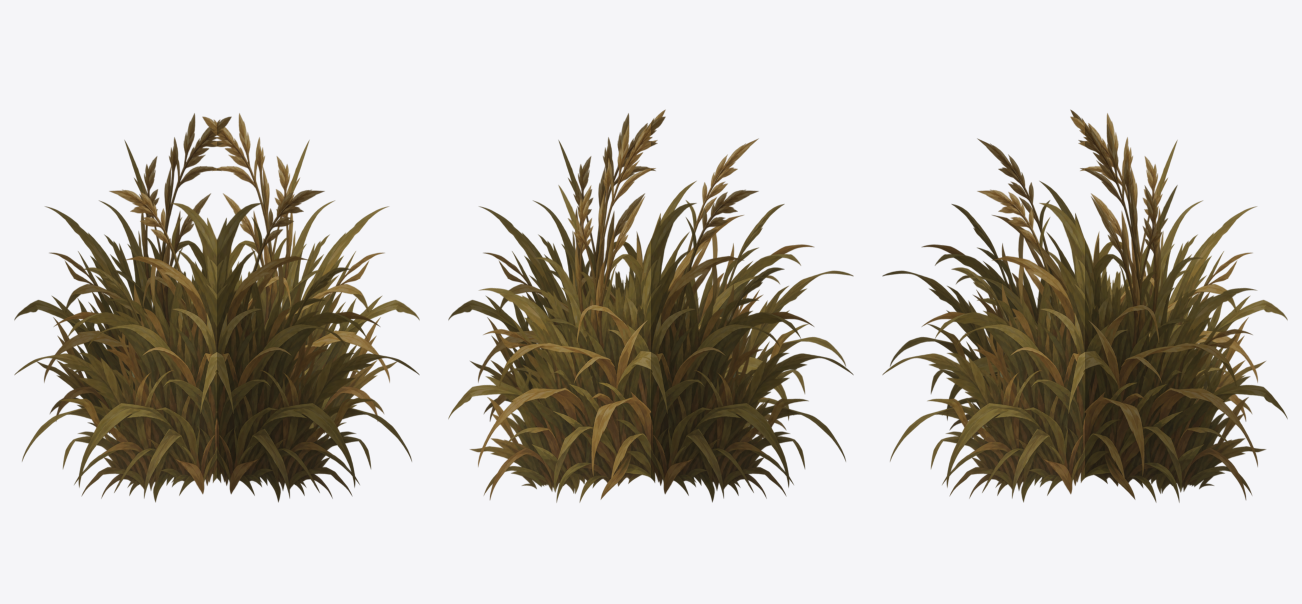
Rendered from v4-woodland-camp-scatter-grass.glb.
The picture shows the model from 3 angles, left to right: view 1: azimuth 30°, elevation 25°; view 2: azimuth 150°, elevation 25°; view 3: azimuth 270°, elevation 25°; orthographic projection.
Parts seen in each view (by area): view 1: v4-woodland-camp-scatter-grass; view 2: v4-woodland-camp-scatter-grass; view 3: v4-woodland-camp-scatter-grass.
Part boxes in pixels (bbox=[...]): v4-woodland-camp-scatter-grass: bbox=[14, 113, 419, 502]; v4-woodland-camp-scatter-grass: bbox=[448, 109, 853, 502]; v4-woodland-camp-scatter-grass: bbox=[882, 109, 1287, 502].
Bounding box in the file's own units: 0.5614 × 0.5 × 0.4862.
1 material, 1 textured.
